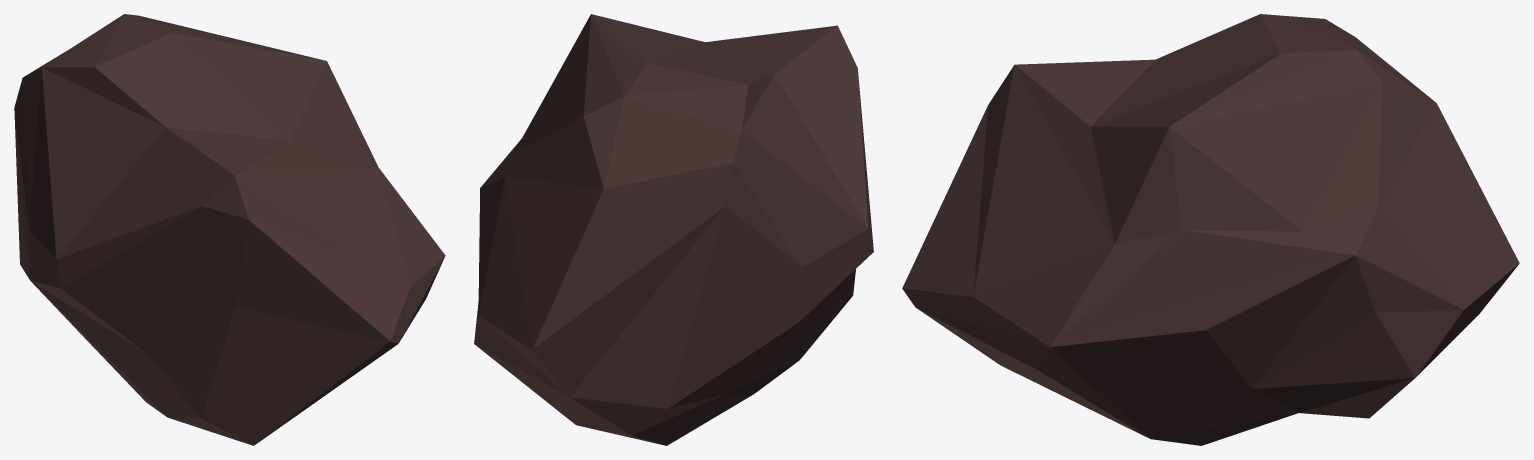
The model's file is Recolor_Rock_1.fbx.
The picture shows the model from 3 angles, left to right: view 1: azimuth 30°, elevation 25°; view 2: azimuth 150°, elevation 25°; view 3: azimuth 270°, elevation 25°; orthographic projection. The views are drawn at different scales.
Visible parts, largest first — view 1: Rock_Div_2; view 2: Rock_Div_2; view 3: Rock_Div_2.
Part boxes in pixels (x1,y1,x2,y2): Rock_Div_2: (14,14,445,445); Rock_Div_2: (474,14,873,445); Rock_Div_2: (902,14,1519,445).
Bounding box in the file's own units: 9.29 × 9.07 × 13.7.
